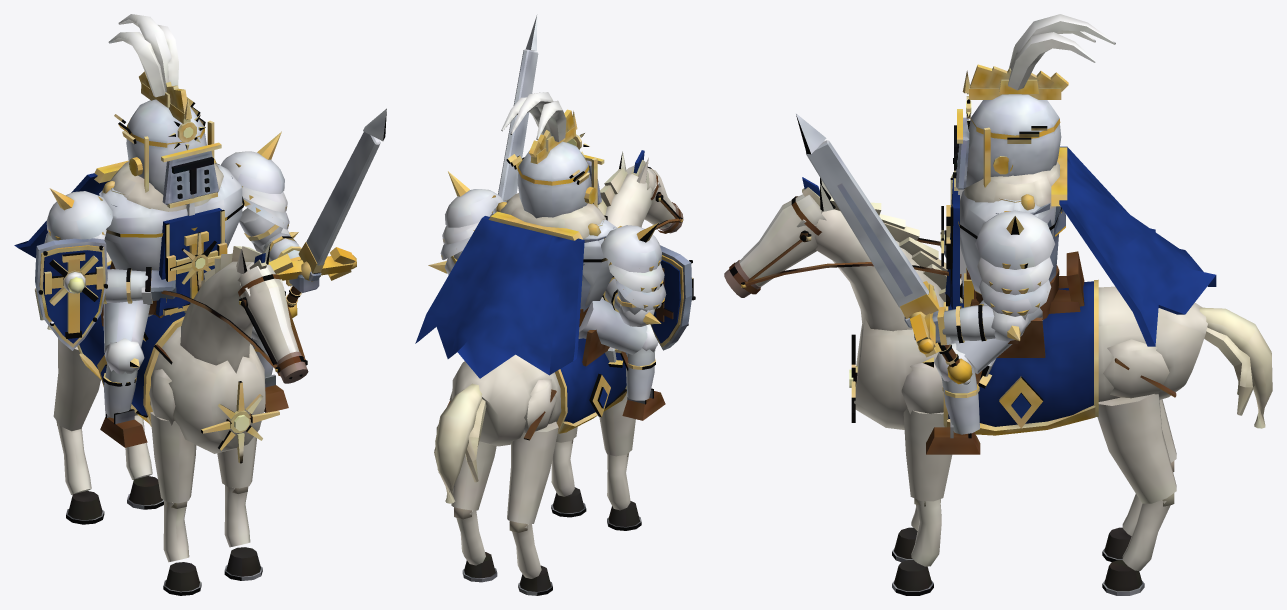
File: templar.glb
3 views of the same model, side by side, from view 1: azimuth 30°, elevation 25°; view 2: azimuth 150°, elevation 25°; view 3: azimuth 270°, elevation 25° (orthographic). The views are drawn at different scales.
Parts seen in each view (by area): view 1: Horse, Torso, Head, ShieldGroup, Sword, ArmR, HorseLegFL, HorseLegBL, ArmL, HorseLegFR, HorseLegBR; view 2: Torso, Horse, Head, HorseLegBL, ArmL, HorseLegBR, HorseLegFL, ArmR, ShieldGroup, Sword, HorseLegFR; view 3: Horse, Torso, Head, ArmR, HorseLegBR, Sword, HorseLegFR, HorseLegBL, HorseLegFL.
Part boxes in pixels (x1,y1,x2,y2): Horse: [35, 242, 308, 463]; Torso: [14, 159, 244, 316]; Head: [108, 14, 221, 208]; ShieldGroup: [35, 238, 107, 350]; Sword: [268, 108, 386, 317]; ArmR: [220, 131, 319, 292]; HorseLegFL: [150, 411, 201, 595]; HorseLegBL: [53, 338, 104, 524]; ArmL: [44, 188, 176, 304]; HorseLegFR: [217, 436, 262, 580]; HorseLegBR: [125, 408, 163, 509]; Torso: [415, 193, 623, 378]; Horse: [434, 150, 683, 503]; Head: [501, 92, 604, 218]; HorseLegBL: [507, 421, 558, 595]; ArmL: [601, 222, 666, 326]; HorseLegBR: [451, 442, 497, 582]; HorseLegFL: [599, 393, 641, 530]; ArmR: [428, 171, 503, 275]; ShieldGroup: [650, 245, 695, 350]; Sword: [498, 14, 538, 201]; HorseLegFR: [551, 427, 586, 517]; Horse: [724, 177, 1272, 454]; Torso: [940, 146, 1216, 388]; Head: [953, 14, 1115, 236]; ArmR: [914, 210, 1054, 345]; HorseLegBR: [1097, 394, 1176, 595]; Sword: [795, 113, 972, 384]; HorseLegFR: [892, 408, 952, 595]; HorseLegBL: [1102, 399, 1176, 561]; HorseLegFL: [892, 499, 940, 561].
Size of the model in its own units: 1.81 by 3.06 by 2.74.
Materials: 2 (2 with a texture image).
